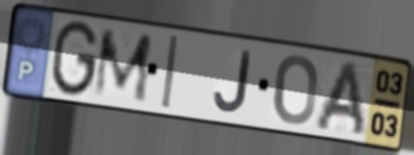A: (311, 58, 368, 139)
G: (47, 18, 101, 100)
I: (159, 32, 181, 112)
J: (212, 48, 254, 115)
M: (90, 28, 155, 105)
O: (271, 53, 319, 127)
